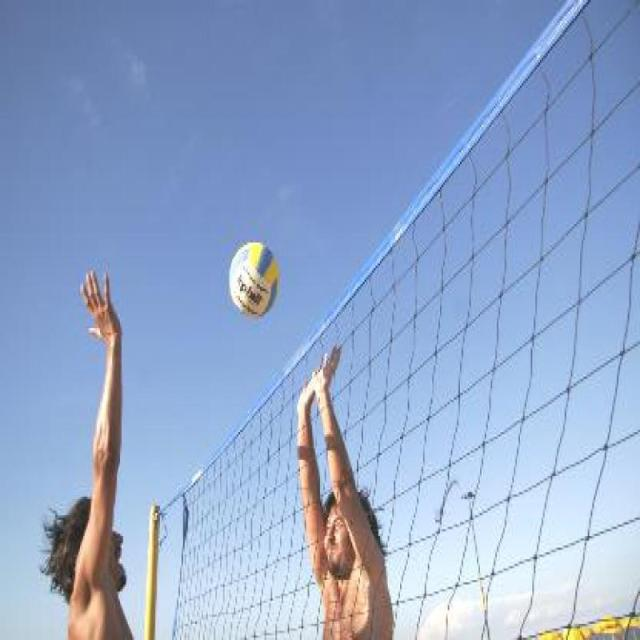volleyball: (228, 238, 282, 321)
